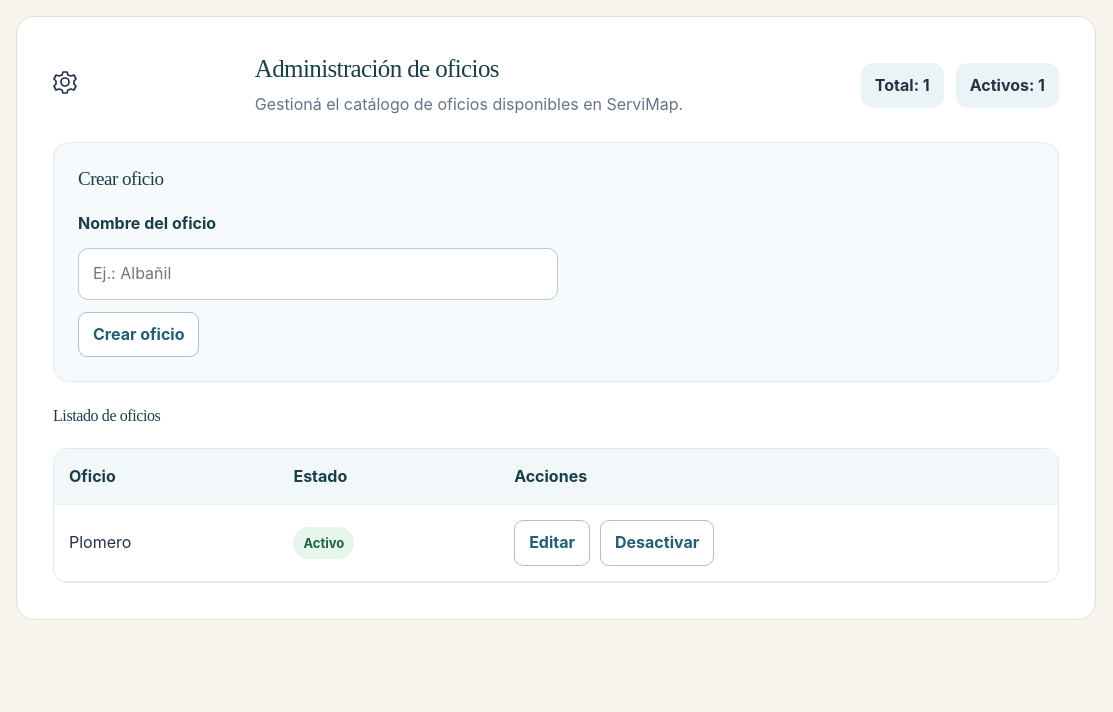
Scenario: Administración remota de oficios › edita con PUT y el identificador remoto
The image size is (1113, 712).
expect the text "Plomero" is shown: met, box [54,505,278,581]
Step 1. Click the button with aria-label "Editar Plomero" → [552, 543], box [514,520,590,566]
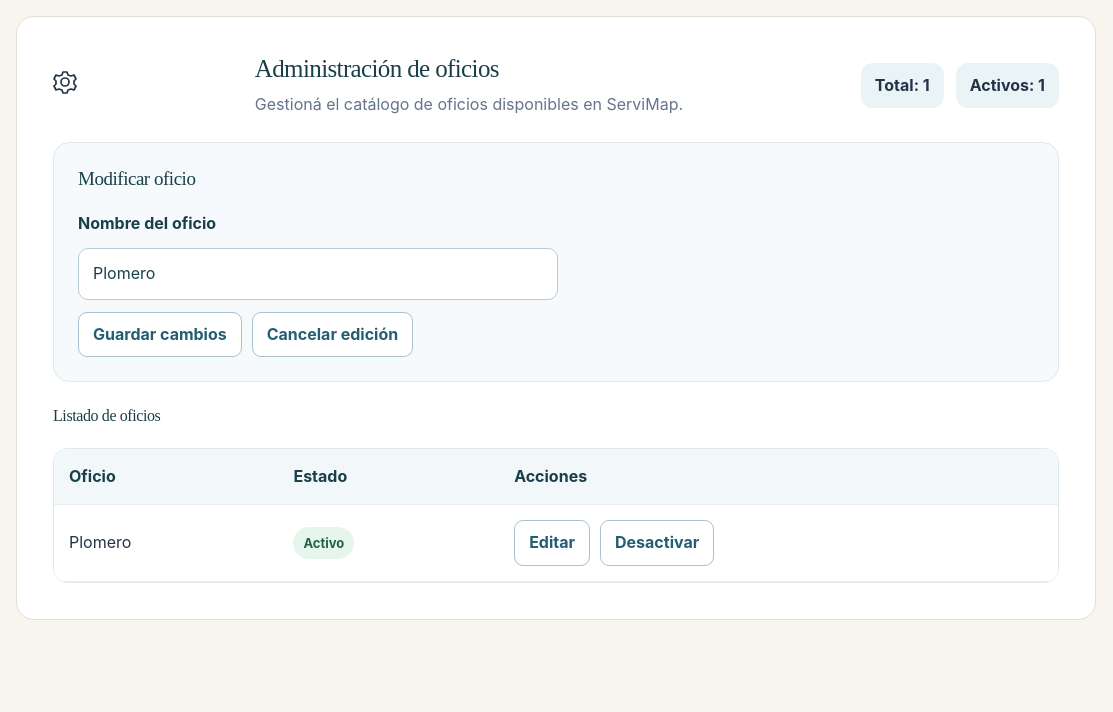
Step 2. Replace the text in the field labelled "Nombre del oficio" with "Plomería" → [318, 274], box [78,248,558,300]
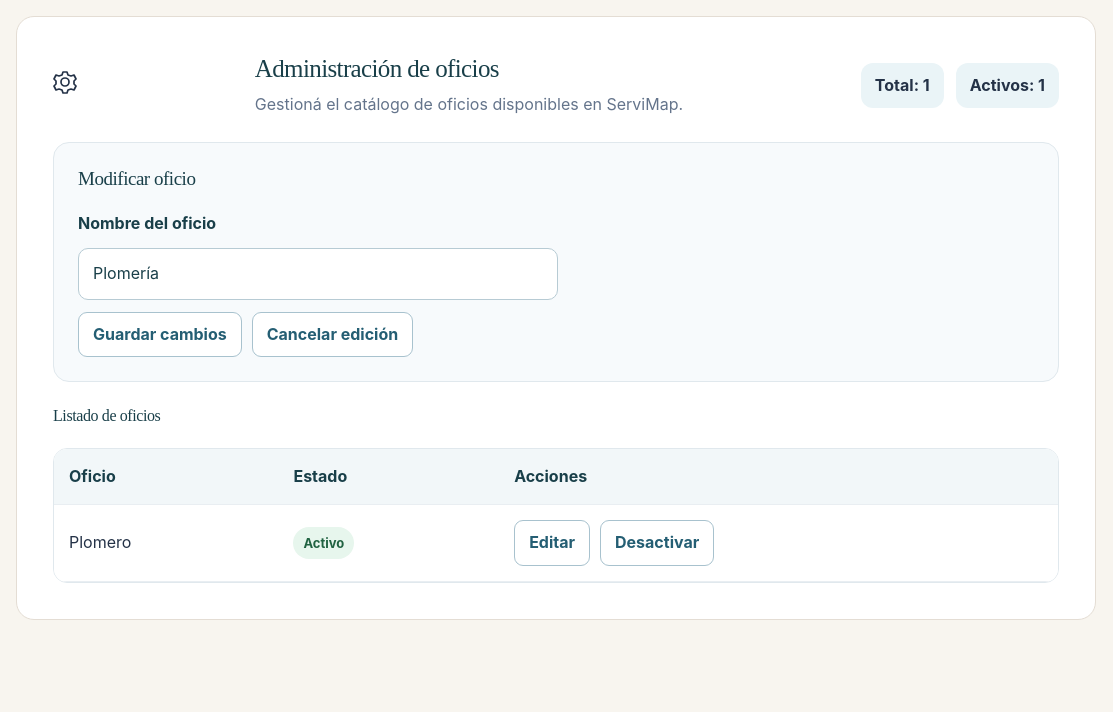
Step 3. Click the button "Guardar cambios" → [160, 335], box [78,312,242,357]
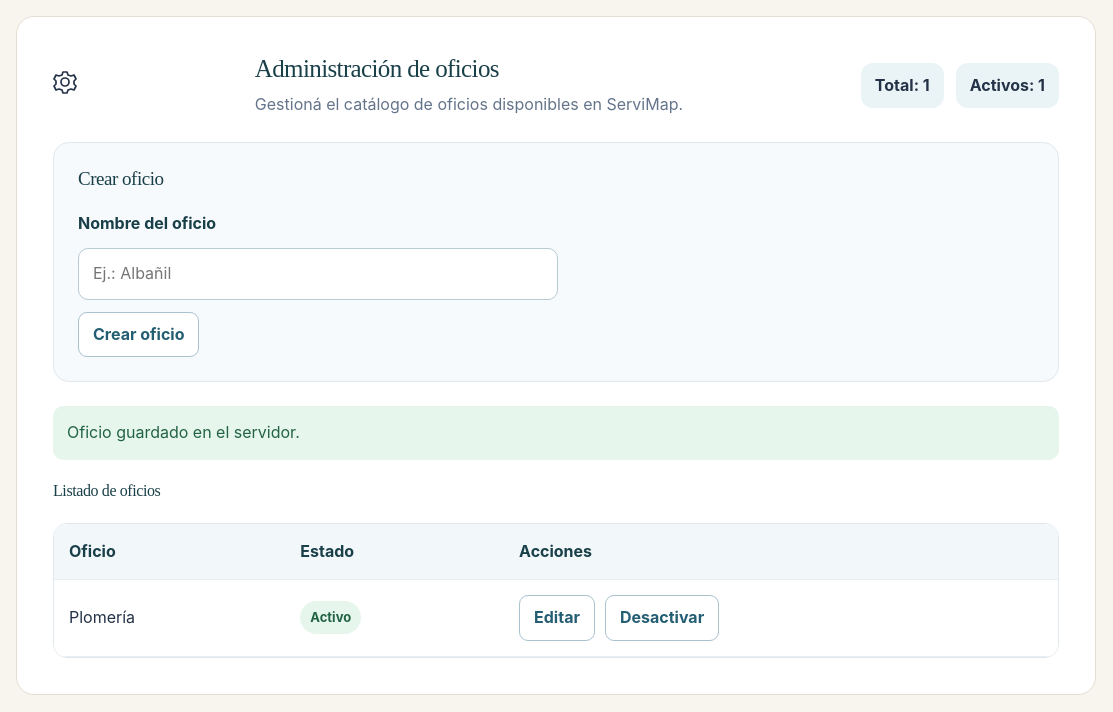
expect the text "Plomería" is shown: met, box [54,580,285,656]
